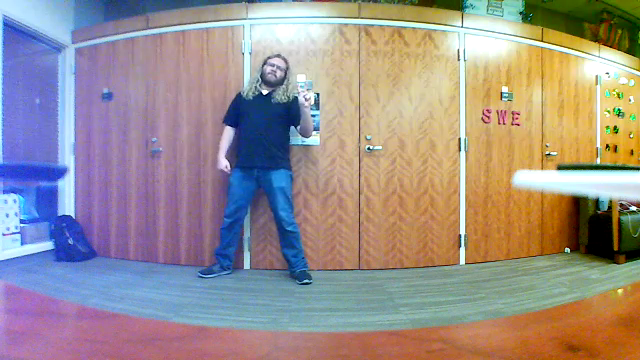peace: (290, 75, 313, 107)
